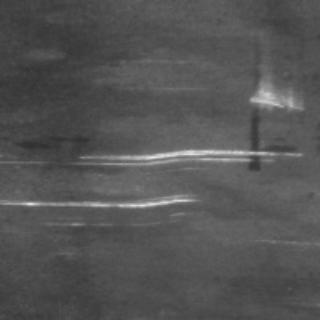inclusion: (246, 38, 262, 174)
scratches: (69, 142, 301, 168), (0, 186, 196, 214), (238, 76, 302, 112)
